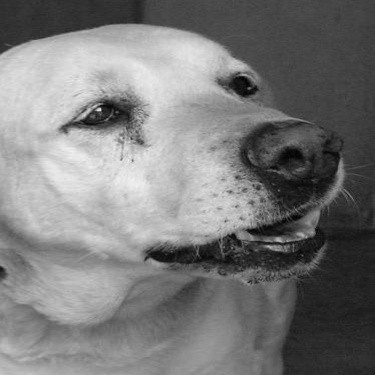dog: (3, 21, 355, 373)
